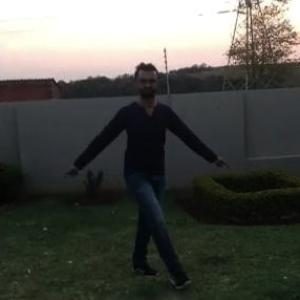land: (87, 72, 204, 242)
